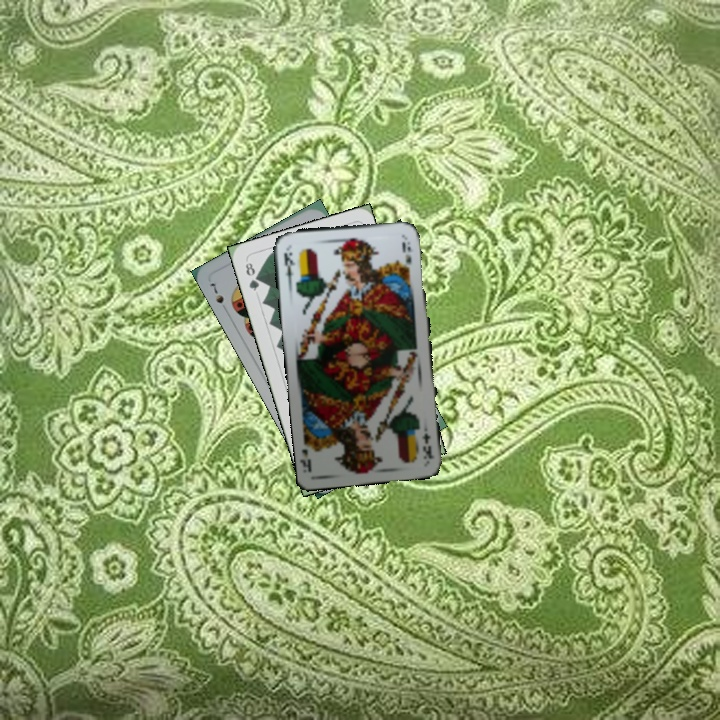EK: (279, 245, 298, 286), (418, 421, 437, 462)
G8: (241, 258, 262, 294)
S7: (205, 279, 230, 315)
